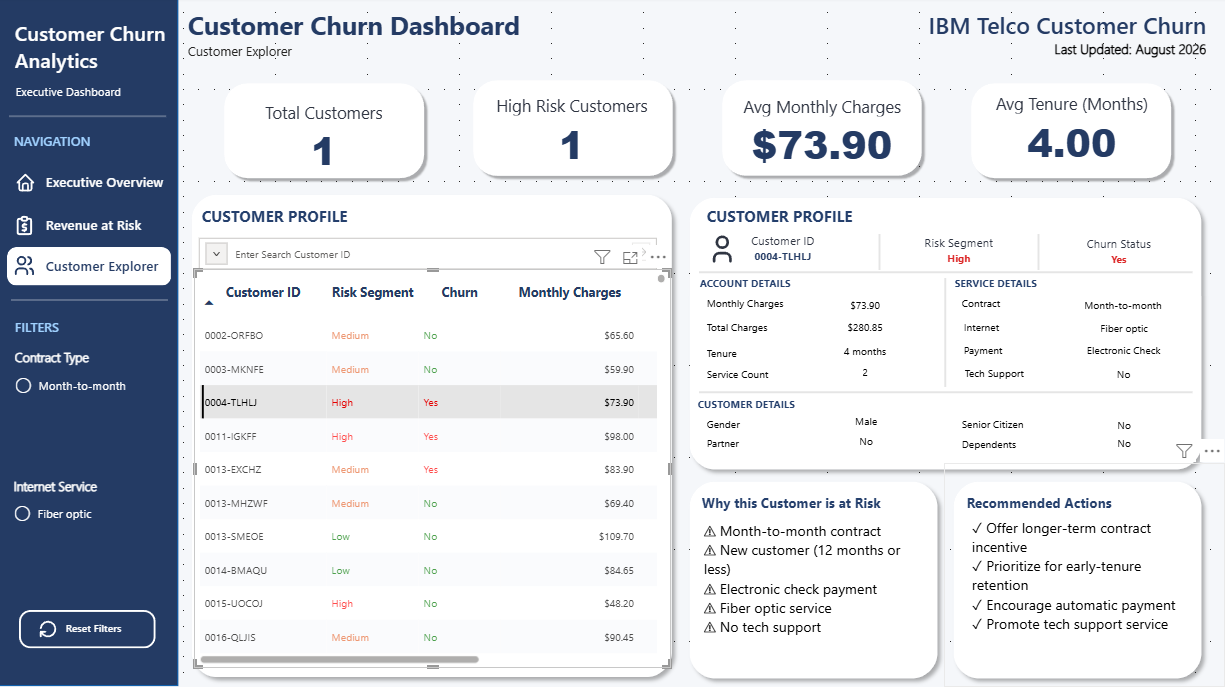

Layout of this report page (visuals, bound fields, positions):
{"tool":"powerbi","page":{"name":"Customer Explorer","canvas":[1280,720],"ordinal":2},"visuals":[{"type":"shape","box":[191.7,197.6,519.1,521.4],"z":0},{"type":"shape","box":[0,0,187.1,719.1],"z":1000},{"type":"shape","box":[711.7,496.7,276.5,223.3],"z":2000},{"type":"shape","box":[488.8,80.5,221,112.7],"z":3000},{"type":"shape","box":[228.6,83.3,221.4,111.9],"z":4000},{"type":"cardVisual","fields":{"Data":["Measures Table.HighRiskCustomersDisplay"]},"box":[475,85.7,246.4,109.5],"z":5000},{"type":"shape","box":[748.6,80,221,112.5],"z":6000},{"type":"shape","box":[1008.3,83.3,221.4,111.9],"z":7000},{"type":"cardVisual","fields":{"Data":["Measures Table.AverageMonthlyCharges"]},"box":[731,85.7,257.1,111.9],"z":8000},{"type":"cardVisual","fields":{"Data":["Measures Table.TotalCustomersDisplay"]},"box":[213.1,91.7,252.4,111.9],"z":9000},{"type":"cardVisual","fields":{"Data":["Measures Table.AverageTenure"]},"box":[996.4,85.7,246.4,106],"z":10000},{"type":"shape","box":[8.3,260.7,171.4,40.5],"z":11000},{"type":"textbox","box":[192.5,0,372.5,71.2],"z":12000},{"type":"textbox","box":[948.8,7.5,316.2,63.8],"z":13000},{"type":"textbox","box":[8,15,172,76],"z":14000},{"type":"shape","box":[10,118,164,13],"z":15000},{"type":"listSlicer","title":"Contract Type","fields":{"Values":["telco_customers_clean.Contract"]},"box":[11.2,367.5,160,120],"z":16000},{"type":"shape","box":[711.7,200.3,552,301.6],"z":17000},{"type":"listSlicer","title":"Internet Service","fields":{"Values":["telco_customers_clean.InternetService"]},"box":[10.9,501.8,160,114.5],"z":18000},{"type":"actionButton","box":[15.7,432.1,33.6,32.1],"z":19000},{"type":"textbox","box":[10,137,164,35],"z":20000},{"type":"textbox","box":[43.5,223.5,140,31.1],"z":21000},{"type":"textbox","box":[43.3,178.5,136.7,32.2],"z":22000},{"type":"textbox","box":[9,81,164,32],"z":23000},{"type":"textbox","box":[44,266,140,31],"z":24000},{"type":"image","box":[14,183,28,22],"z":25000},{"type":"image","box":[13,226,28,24],"z":26000},{"type":"image","box":[13,268,28,24],"z":27000},{"type":"shape","box":[12.5,310,163.8,12.5],"z":28000},{"type":"textbox","box":[11.2,331.2,162.5,35],"z":29000},{"type":"actionButton","box":[11.9,173.8,165.5,39.3],"z":30000},{"type":"image","box":[40,647.5,22.5,22.5],"z":31000},{"type":"textbox","box":[64.3,643.6,80,30.8],"z":32000},{"type":"actionButton","box":[21.2,640,142.5,40],"z":33000},{"type":"actionButton","box":[10.7,219,165.5,39.3],"z":34000},{"type":"tableEx","fields":{"Values":["telco_customers_clean.customerID","telco_customers_clean.Risk_Segment","telco_customers_clean.Churn","telco_customers_clean.MonthlyCharges","telco_customers_clean.tenure","telco_customers_clean.Contract","telco_customers_clean.InternetService"]},"box":[203.9,283.7,497.4,416.7],"z":35000},{"type":"textSlicer","title":"CUSTOMER LIST","fields":{"Values":["telco_customers_clean.customerID"]},"box":[203.9,246.5,487.7,39],"z":36000},{"type":"textbox","box":[730.6,210.1,181.8,36.4],"z":37000},{"type":"textbox","box":[203.9,210.1,203.9,39.9],"z":38000},{"type":"cardVisual","fields":{"Data":["Customer Profile.SelectedCustomerID"]},"box":[730.3,232.1,175.6,60.3],"z":39000},{"type":"image","box":[737.7,240,34.4,45.9],"z":40000},{"type":"shape","box":[730.7,280.5,515.4,13],"z":41000},{"type":"shape","box":[976.8,293.6,21.4,113.7],"z":42000},{"type":"cardVisual","fields":{"Data":["Customer Profile.SelectedGender"]},"box":[849.4,418.4,111.7,47],"z":43000},{"type":"cardVisual","fields":{"Data":["Customer Profile.SelectedSeniorCitizen"]},"box":[1118.6,420.5,111.7,49],"z":44000},{"type":"cardVisual","fields":{"Data":["Customer Profile.SelectedPartner"]},"box":[849.4,438.3,111.7,48],"z":45000},{"type":"cardVisual","fields":{"Data":["Customer Profile.SelectedDependents"]},"box":[1118.6,440.3,111.7,48],"z":46000},{"type":"cardVisual","fields":{"Data":["Customer Profile.SelectedTenureLabel"]},"box":[848.2,344.9,111.8,48.5],"z":47000},{"type":"cardVisual","fields":{"Data":["Customer Profile.SelectedMonthlyCharges"]},"box":[848.3,296.3,111.7,48],"z":48000},{"type":"cardVisual","fields":{"Data":["Customer Profile.SelectedTotalCharges"]},"box":[848.2,319.7,111.8,47.5],"z":49000},{"type":"textbox","box":[730.7,427.8,77.4,31.7],"z":50000},{"type":"textbox","box":[996.5,427.8,104.3,31.3],"z":51000},{"type":"textbox","box":[730.7,447.4,104.4,31.7],"z":52000},{"type":"textbox","box":[996.5,448.7,104.3,32.3],"z":53000},{"type":"textbox","box":[730.7,353.2,104.4,31.7],"z":54000},{"type":"textbox","box":[730.7,301,104.4,31.7],"z":55000},{"type":"cardVisual","fields":{"Data":["Customer Profile.SelectedContract"]},"box":[1100.9,297.4,144,47],"z":56000},{"type":"cardVisual","fields":{"Data":["Customer Profile.SelectedInternetService"]},"box":[1118.4,320.6,111.8,48.5],"z":57000},{"type":"cardVisual","fields":{"Data":["Customer Profile.SelectedPaymentMethod"]},"box":[1106.1,344.3,135.7,47],"z":58000},{"type":"cardVisual","fields":{"Data":["Customer Profile.SelectedTechSupport"]},"box":[1106.3,369.1,135.1,46.6],"z":59000},{"type":"textbox","box":[988.9,280.5,144.5,31.7],"z":60000},{"type":"textbox","box":[996.3,301,77.4,31.7],"z":61000},{"type":"textbox","box":[998.2,326.2,77.4,31.7],"z":62000},{"type":"textbox","box":[998.2,350.4,77.4,31.7],"z":63000},{"type":"textbox","box":[999.1,374.7,77.4,31.7],"z":64000},{"type":"textbox","box":[723.3,280.5,144.5,31.7],"z":65000},{"type":"textbox","box":[730.7,326.2,104.4,31.7],"z":66000},{"type":"textbox","box":[730.7,375.6,104.4,31.7],"z":67000},{"type":"cardVisual","fields":{"Data":["Customer Profile.SelectedServiceCount"]},"box":[848.2,366.3,111.8,48.5],"z":68000},{"type":"shape","box":[730.7,405.4,515.4,13],"z":69000},{"type":"textbox","box":[721.4,407.3,144.5,31.7],"z":70000},{"type":"shape","box":[895.3,247.3,47,37.6],"z":71000},{"type":"cardVisual","fields":{"Data":["Customer Profile.SelectedRiskSegment"]},"box":[927.7,225.4,148.2,75.1],"z":72000},{"type":"shape","box":[1061.2,247.3,47,37.6],"z":73000},{"type":"cardVisual","fields":{"Data":["Customer Profile.SelectedChurnStatus"]},"box":[1094.6,226.4,148.2,75.1],"z":74000},{"type":"shape","box":[987.1,496.7,276.5,223.3],"z":75000},{"type":"cardVisual","fields":{"Data":["Customer Profile.CustomerRiskFactors"]},"box":[706.4,492.5,293.2,226.4],"z":76000},{"type":"textbox","box":[725.2,510.3,256.7,35.5],"z":77000},{"type":"cardVisual","fields":{"Data":["Customer Profile.RecommendedActions"]},"box":[986.1,486.3,293.2,233.7],"z":77001},{"type":"textbox","box":[1001.7,510.3,256.7,35.5],"z":77002}]}

Visuals, with their boxes on the page's 1280x720 design canvas (x1, y1, x2, y2). These are canvas units, not pixel positions in the 1225x687 screenshot, which may show the page scaled, cropped or inside an application window:
shape: locate(192, 198, 711, 719)
shape: locate(0, 0, 187, 719)
shape: locate(712, 497, 988, 720)
shape: locate(489, 80, 710, 193)
shape: locate(229, 83, 450, 195)
cardVisual - Measures Table.HighRiskCustomersDisplay: locate(475, 86, 721, 195)
shape: locate(749, 80, 970, 192)
shape: locate(1008, 83, 1230, 195)
cardVisual - Measures Table.AverageMonthlyCharges: locate(731, 86, 988, 198)
cardVisual - Measures Table.TotalCustomersDisplay: locate(213, 92, 466, 204)
cardVisual - Measures Table.AverageTenure: locate(996, 86, 1243, 192)
shape: locate(8, 261, 180, 301)
textbox: locate(192, 0, 565, 71)
textbox: locate(949, 8, 1265, 71)
textbox: locate(8, 15, 180, 91)
shape: locate(10, 118, 174, 131)
"Contract Type" listSlicer: locate(11, 368, 171, 488)
shape: locate(712, 200, 1264, 502)
"Internet Service" listSlicer: locate(11, 502, 171, 616)
actionButton: locate(16, 432, 49, 464)
textbox: locate(10, 137, 174, 172)
textbox: locate(44, 224, 184, 255)
textbox: locate(43, 178, 180, 211)
textbox: locate(9, 81, 173, 113)
textbox: locate(44, 266, 184, 297)
image: locate(14, 183, 42, 205)
image: locate(13, 226, 41, 250)
image: locate(13, 268, 41, 292)
shape: locate(12, 310, 176, 322)
textbox: locate(11, 331, 174, 366)
actionButton: locate(12, 174, 177, 213)
image: locate(40, 648, 62, 670)
textbox: locate(64, 644, 144, 674)
actionButton: locate(21, 640, 164, 680)
actionButton: locate(11, 219, 176, 258)
tableEx - telco_customers_clean.customerID x telco_customers_clean.Risk_Segment: locate(204, 284, 701, 700)
"CUSTOMER LIST" textSlicer: locate(204, 246, 692, 286)
textbox: locate(731, 210, 912, 246)
textbox: locate(204, 210, 408, 250)
cardVisual - Customer Profile.SelectedCustomerID: locate(730, 232, 906, 292)
image: locate(738, 240, 772, 286)
shape: locate(731, 280, 1246, 294)
shape: locate(977, 294, 998, 407)
cardVisual - Customer Profile.SelectedGender: locate(849, 418, 961, 465)
cardVisual - Customer Profile.SelectedSeniorCitizen: locate(1119, 420, 1230, 470)
cardVisual - Customer Profile.SelectedPartner: locate(849, 438, 961, 486)
cardVisual - Customer Profile.SelectedDependents: locate(1119, 440, 1230, 488)
cardVisual - Customer Profile.SelectedTenureLabel: locate(848, 345, 960, 393)
cardVisual - Customer Profile.SelectedMonthlyCharges: locate(848, 296, 960, 344)
cardVisual - Customer Profile.SelectedTotalCharges: locate(848, 320, 960, 367)
textbox: locate(731, 428, 808, 460)
textbox: locate(996, 428, 1101, 459)
textbox: locate(731, 447, 835, 479)
textbox: locate(996, 449, 1101, 481)
textbox: locate(731, 353, 835, 385)
textbox: locate(731, 301, 835, 333)
cardVisual - Customer Profile.SelectedContract: locate(1101, 297, 1245, 344)
cardVisual - Customer Profile.SelectedInternetService: locate(1118, 321, 1230, 369)
cardVisual - Customer Profile.SelectedPaymentMethod: locate(1106, 344, 1242, 391)
cardVisual - Customer Profile.SelectedTechSupport: locate(1106, 369, 1241, 416)
textbox: locate(989, 280, 1133, 312)
textbox: locate(996, 301, 1074, 333)
textbox: locate(998, 326, 1076, 358)
textbox: locate(998, 350, 1076, 382)
textbox: locate(999, 375, 1076, 406)
textbox: locate(723, 280, 868, 312)
textbox: locate(731, 326, 835, 358)
textbox: locate(731, 376, 835, 407)
cardVisual - Customer Profile.SelectedServiceCount: locate(848, 366, 960, 415)
shape: locate(731, 405, 1246, 418)
textbox: locate(721, 407, 866, 439)
shape: locate(895, 247, 942, 285)
cardVisual - Customer Profile.SelectedRiskSegment: locate(928, 225, 1076, 300)
shape: locate(1061, 247, 1108, 285)
cardVisual - Customer Profile.SelectedChurnStatus: locate(1095, 226, 1243, 302)
shape: locate(987, 497, 1264, 720)
cardVisual - Customer Profile.CustomerRiskFactors: locate(706, 492, 1000, 719)
textbox: locate(725, 510, 982, 546)
cardVisual - Customer Profile.RecommendedActions: locate(986, 486, 1279, 720)
textbox: locate(1002, 510, 1258, 546)
